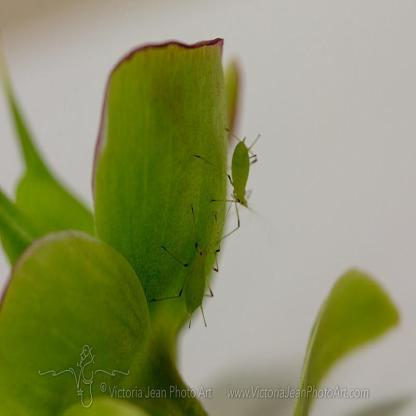aphid: (159, 203, 231, 328), (200, 115, 264, 236)
